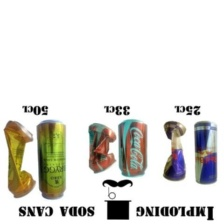can: (2, 116, 37, 201), (37, 115, 71, 202), (189, 118, 222, 189), (117, 113, 153, 178), (84, 122, 118, 177), (161, 119, 188, 184)
